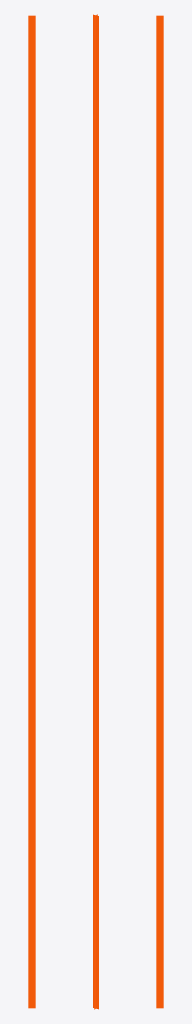
Rendered from SM_VFX_LogicTrip_LaserRibbon.glb.
3 renders of one model, left to right at view 1: azimuth 90°, elevation 25°; view 2: azimuth 150°, elevation 25°; view 3: azimuth 270°, elevation 25°, orthographic.
Parts seen in each view (by area): view 1: SM_VFX_LogicTrip_LaserRibbon; view 2: SM_VFX_LogicTrip_LaserRibbon; view 3: SM_VFX_LogicTrip_LaserRibbon.
Part boxes in pixels (x1,y1,x2,y2): SM_VFX_LogicTrip_LaserRibbon: (28,15,35,1008); SM_VFX_LogicTrip_LaserRibbon: (93,14,98,1009); SM_VFX_LogicTrip_LaserRibbon: (156,15,163,1008).
Size of the model in its own units: 0.02 by 3 by 0.02.
